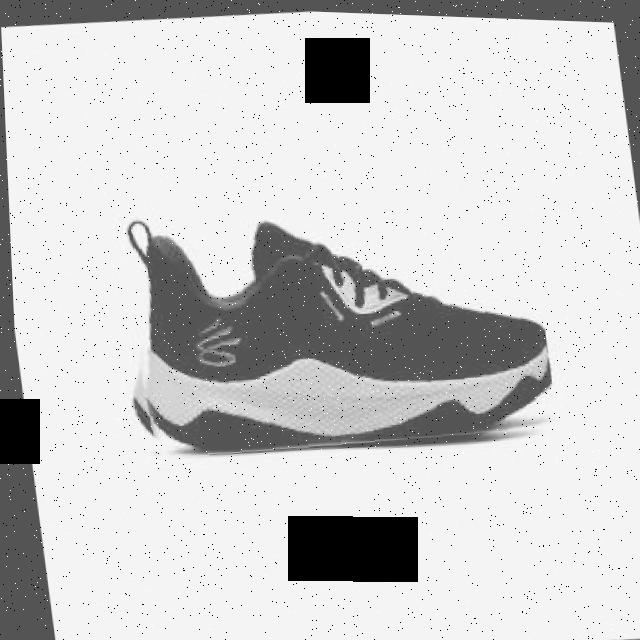shoe: (108, 190, 556, 471)
